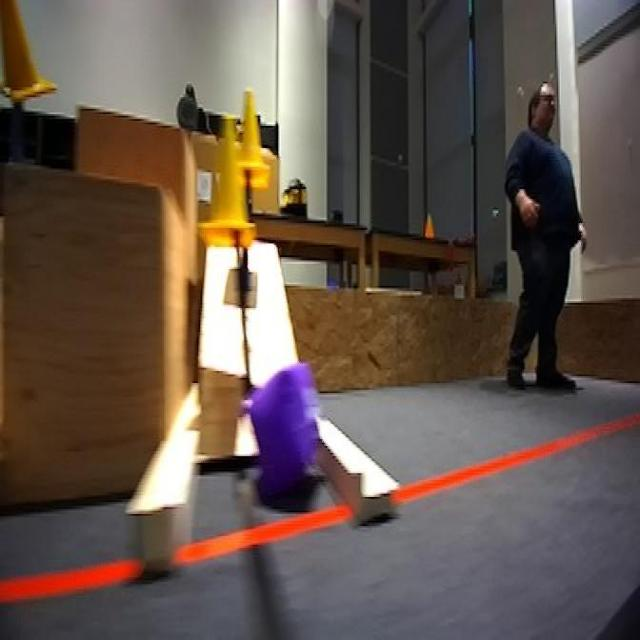frc_cone: (197, 114, 257, 252), (0, 0, 57, 107), (228, 90, 272, 192)
frc_cube: (244, 362, 328, 500)
